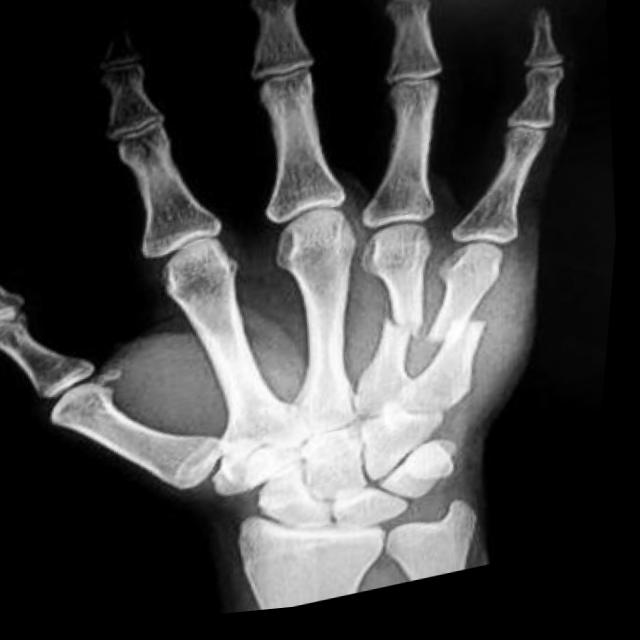fracture: (423, 315, 507, 361), (369, 312, 448, 360)
